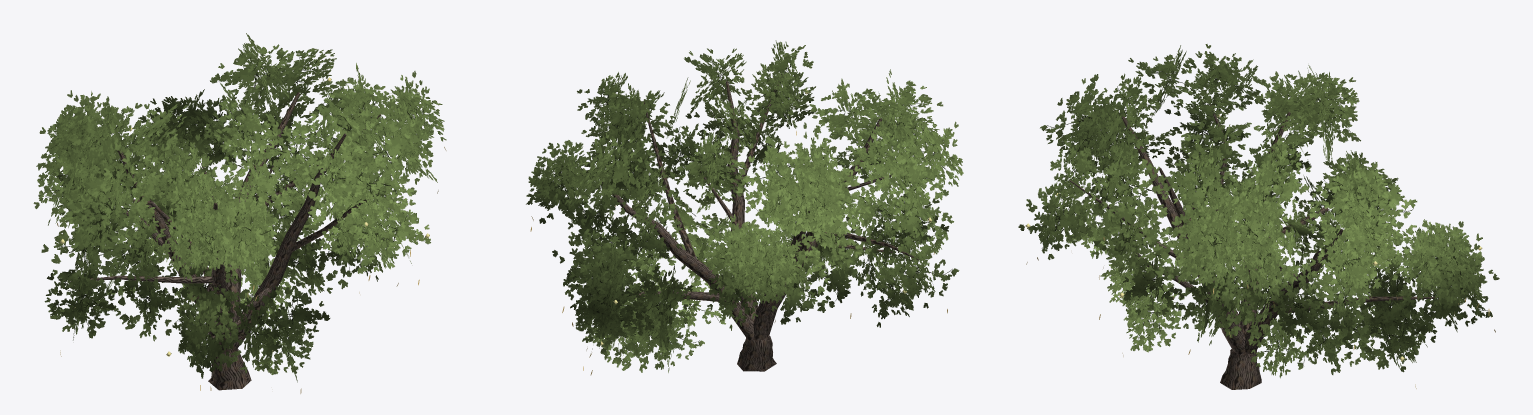
The model's file is old-a.lod1.glb.
3 views of the same model, side by side, from view 1: azimuth 30°, elevation 25°; view 2: azimuth 150°, elevation 25°; view 3: azimuth 270°, elevation 25° (orthographic). The views are drawn at different scales.
Parts seen in each view (by area): view 1: foliage, bark; view 2: foliage, bark; view 3: foliage, bark.
Boxes of the visible parts, box(x1,y1,x2,y2) form: foliage: box(33, 33, 446, 382); bark: box(70, 92, 380, 390); foliage: box(526, 40, 963, 372); bark: box(600, 73, 918, 371); foliage: box(1018, 44, 1499, 378); bark: box(1069, 93, 1435, 389).
Bounding box in the file's own units: 14.26 × 9.5 × 14.97.
4 materials, 2 textured.
